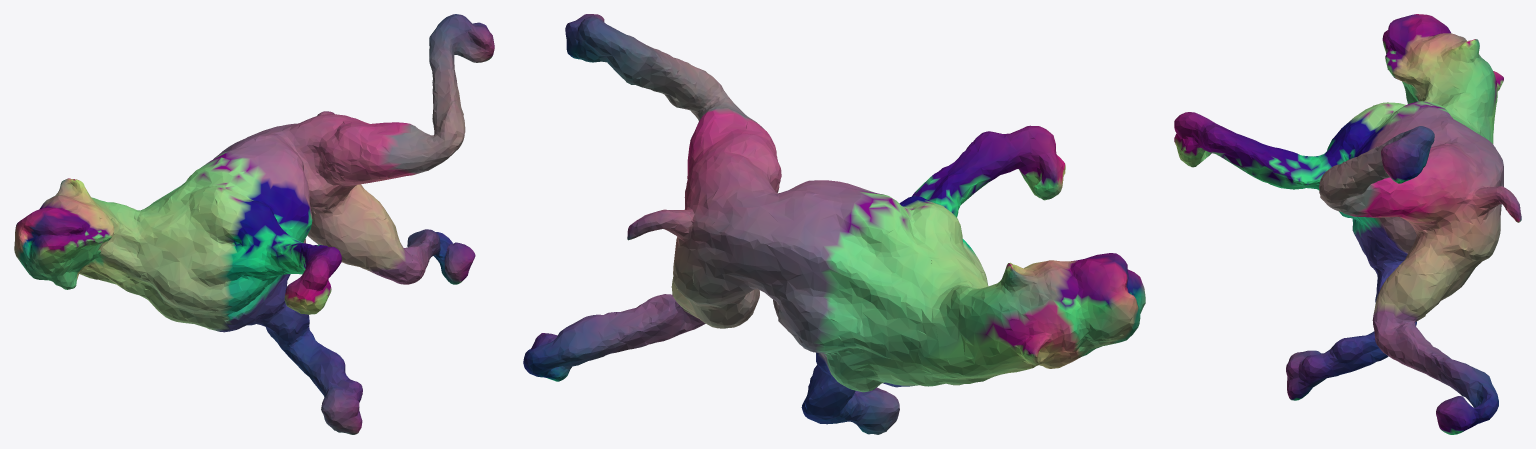
The model's file is dog1-1.off.obj.
3 views of the same model, side by side, from view 1: azimuth 30°, elevation 25°; view 2: azimuth 150°, elevation 25°; view 3: azimuth 270°, elevation 25° (orthographic). The views are drawn at different scales.
Bounding box in the file's own units: 1.65 × 1.13 × 0.9974.
